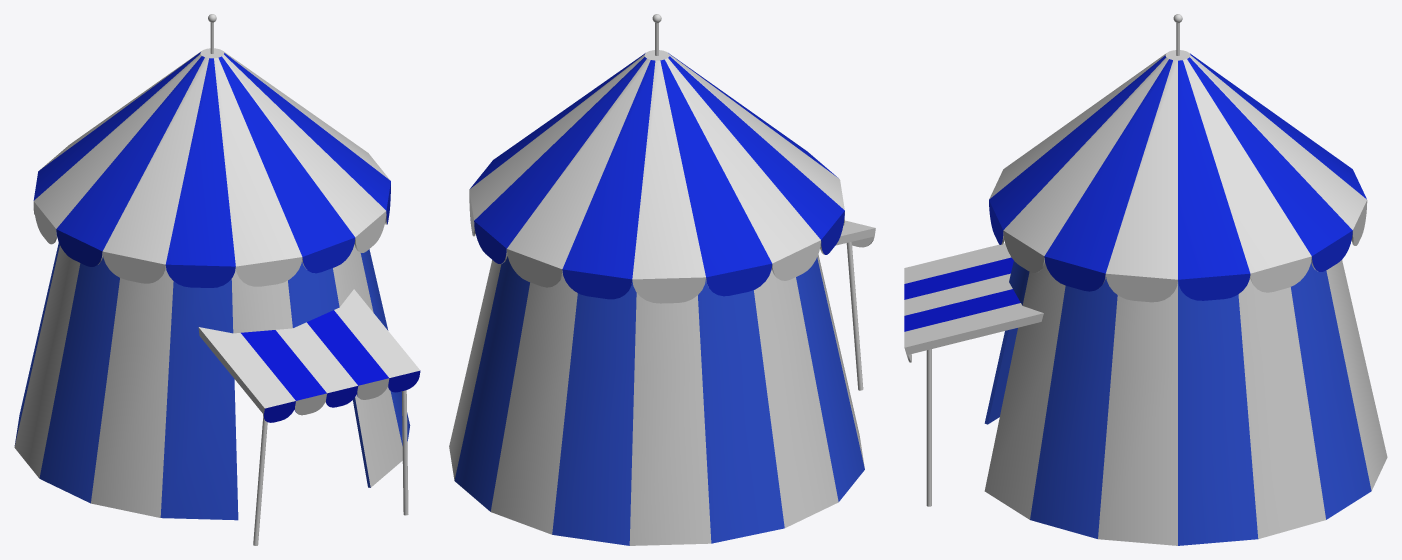
Rendered from boothtent_lowpoly.fbx.
3 views of the same model, side by side, from view 1: azimuth 30°, elevation 25°; view 2: azimuth 150°, elevation 25°; view 3: azimuth 270°, elevation 25° (orthographic). The views are drawn at different scales.
Parts seen in each view (by area): view 1: polySurface14, polySurface13, pCube12, pCube11, pCube10, pCube9, pCube8, polySurface419, polySurface418; view 2: polySurface13, polySurface14, polySurface419, pCube12; view 3: polySurface13, polySurface14, pCube11, pCube10, pCube9, pCube8, pCube12, polySurface418.
Boxes of the visible parts, bbox=[...] form: polySurface14: bbox=[33, 48, 390, 287]; polySurface13: bbox=[14, 242, 410, 520]; pCube12: bbox=[198, 327, 295, 422]; pCube11: bbox=[334, 289, 420, 392]; pCube10: bbox=[307, 310, 389, 399]; pCube9: bbox=[241, 330, 326, 415]; pCube8: bbox=[276, 322, 358, 407]; polySurface419: bbox=[253, 417, 267, 545]; polySurface418: bbox=[401, 390, 408, 515]; polySurface13: bbox=[449, 254, 864, 545]; polySurface14: bbox=[469, 50, 844, 303]; polySurface419: bbox=[846, 242, 863, 390]; pCube12: bbox=[820, 220, 875, 248]; polySurface13: bbox=[984, 260, 1387, 545]; polySurface14: bbox=[989, 50, 1367, 302]; pCube11: bbox=[904, 303, 1043, 362]; pCube10: bbox=[904, 289, 1020, 331]; pCube9: bbox=[904, 257, 1013, 299]; pCube8: bbox=[904, 273, 1012, 315]; pCube12: bbox=[904, 243, 1011, 283]; polySurface418: bbox=[926, 349, 931, 506].
Size of the model in its own units: 20.23 by 24.14 by 23.33.
